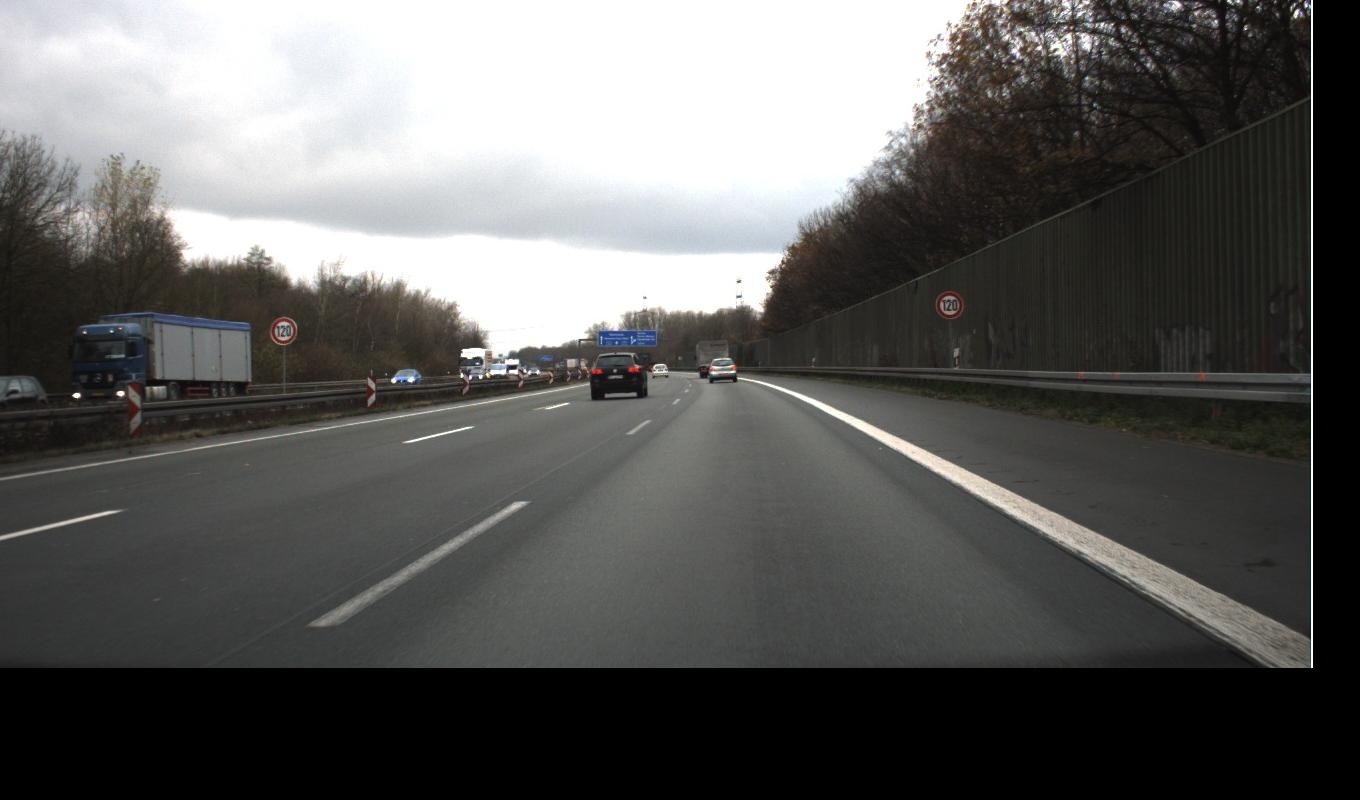speed limit 120: (268, 290, 964, 344)
